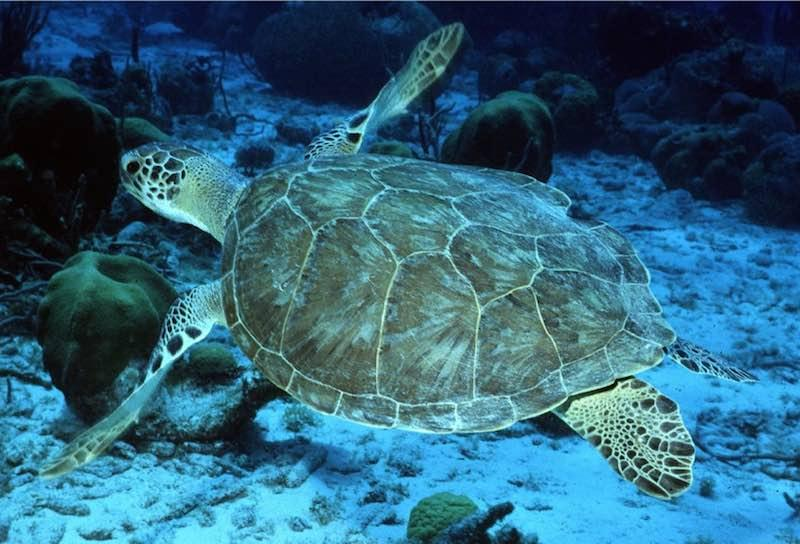turtle: (113, 127, 245, 239)
